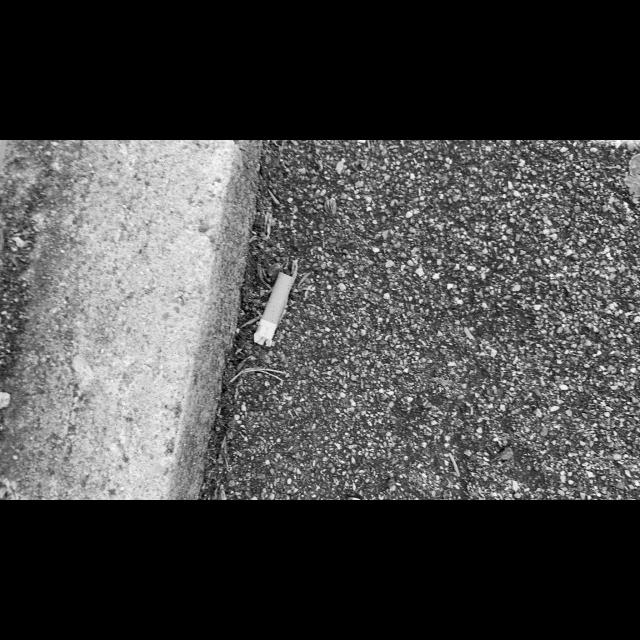cigarette: (253, 271, 295, 347)
